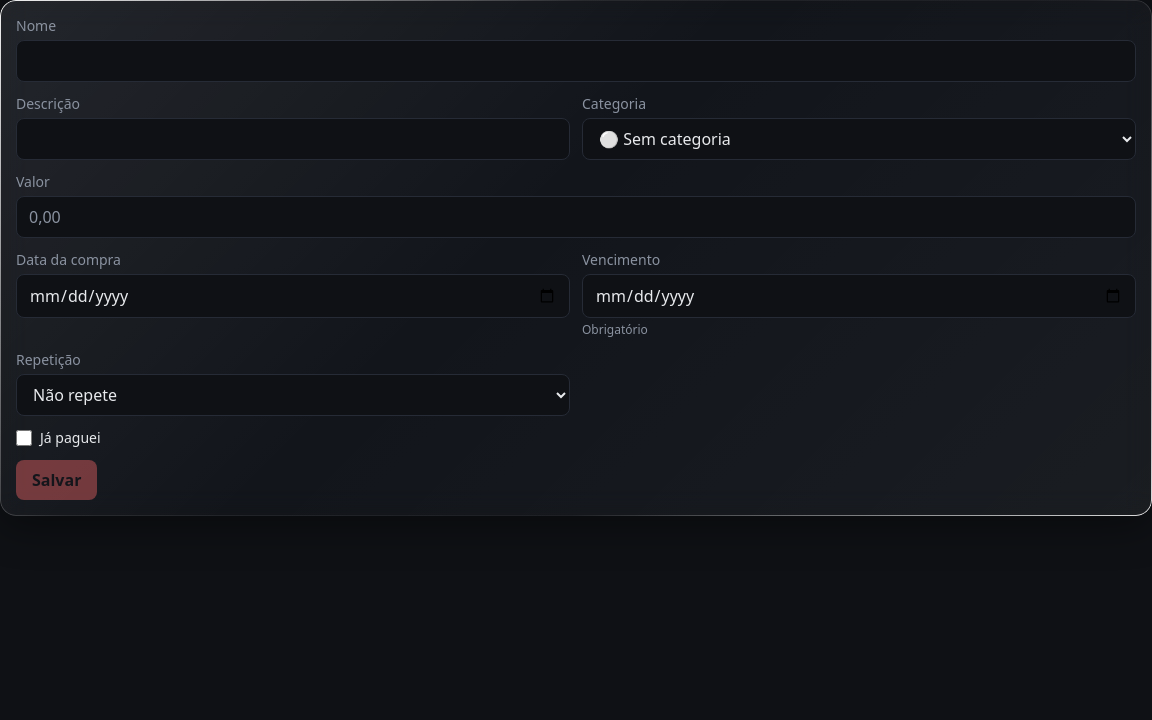
Test case: EntryForm › keeps submit disabled and shows message for invalid valor
In the field labelled "Nome": (576, 61) [16, 40, 1136, 82], type "Aluguel"
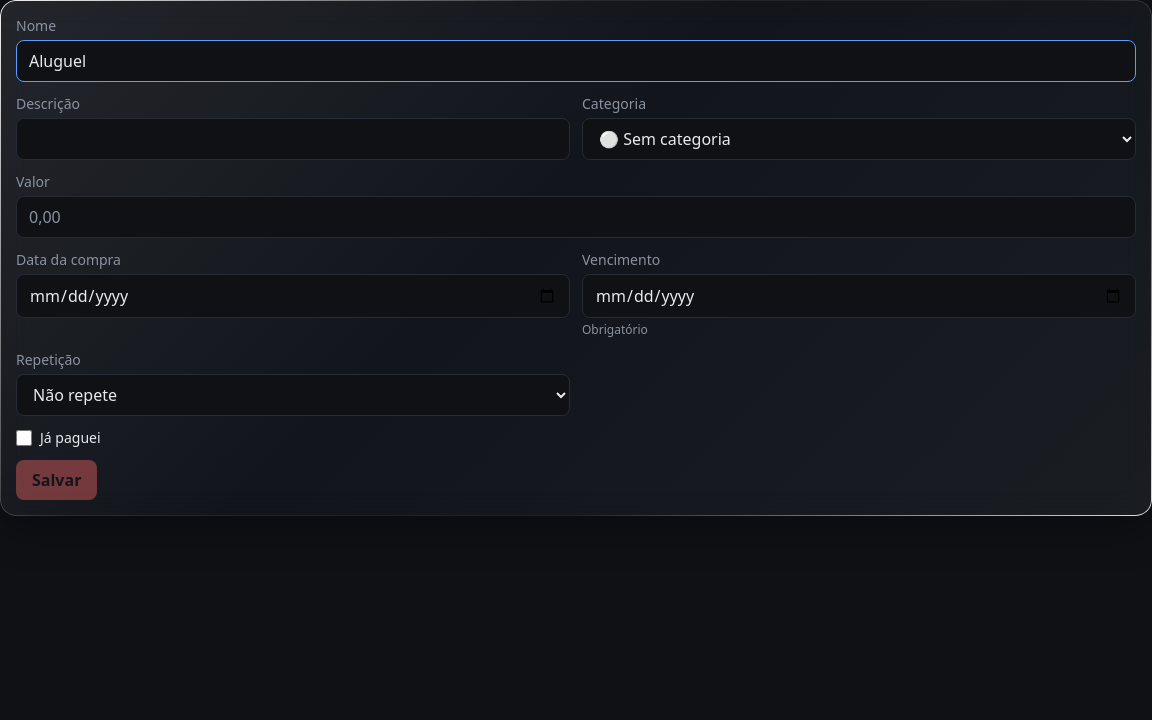
In the field labelled "Valor": (576, 217) [16, 196, 1136, 238], type "abc"
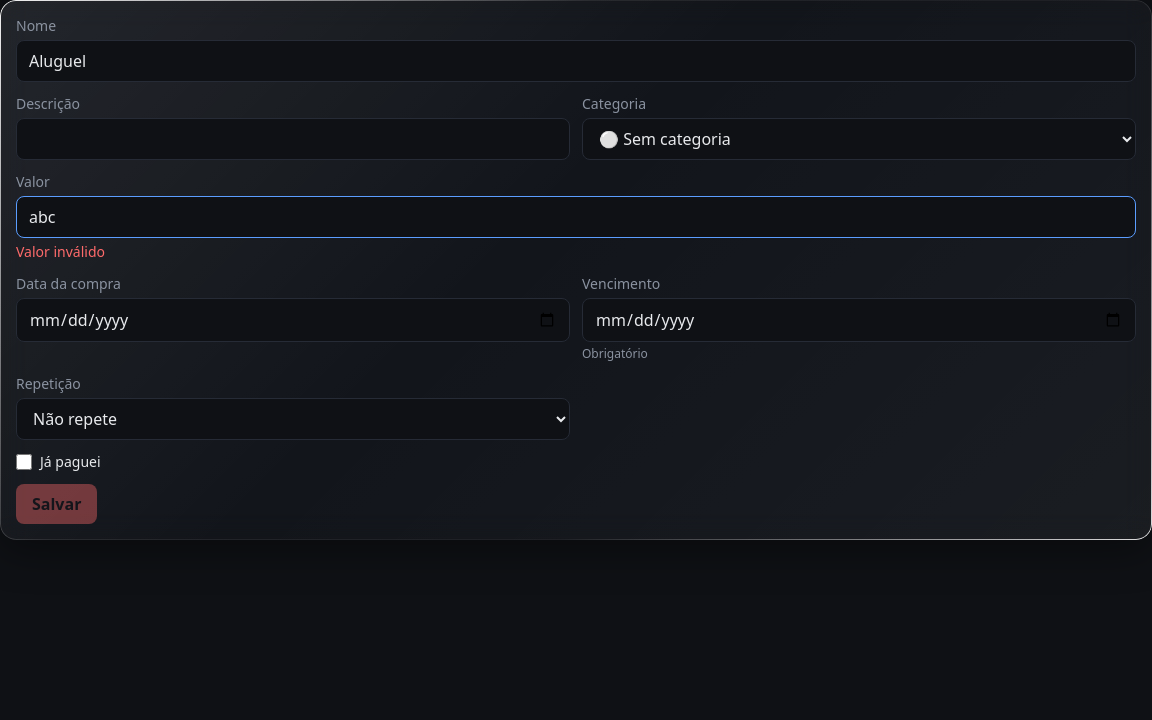
Expected: the button "Salvar" is disabled, [16, 484, 97, 524]
Now the text "Valor inválido" is shown, box [16, 242, 105, 261]
